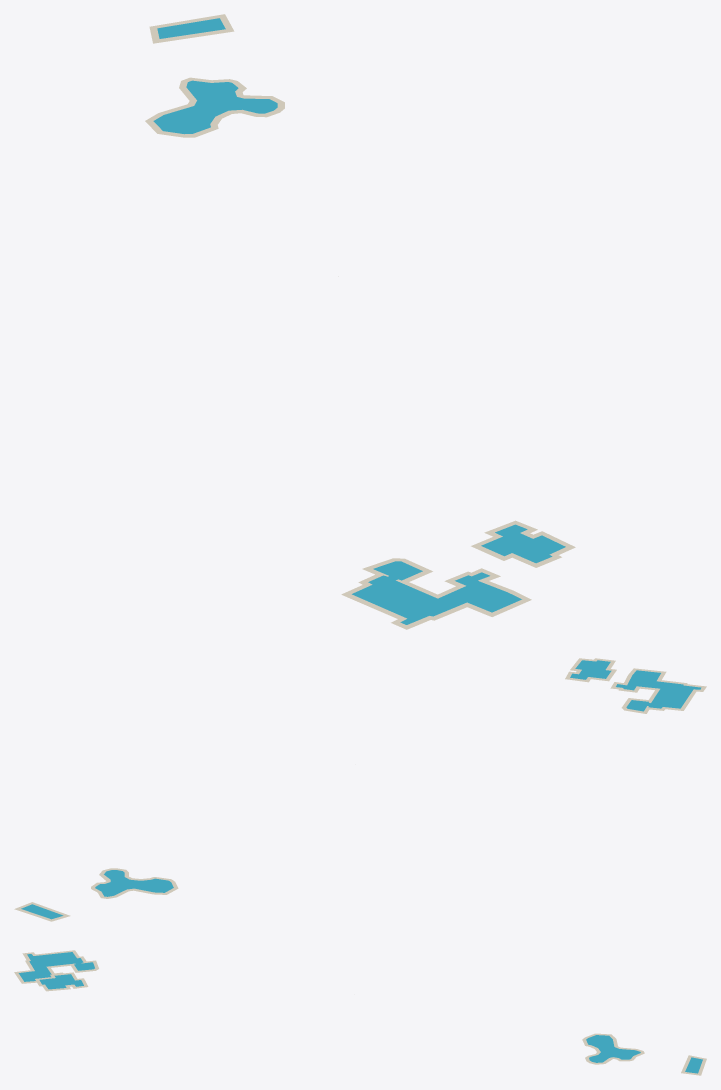
File: pbpool_m21_m15.glb
The picture shows the model from 3 angles, top to bottom: view 1: azimuth 30°, elevation 25°; view 2: azimuth 150°, elevation 25°; view 3: azimuth 270°, elevation 25°; orthographic projection. The views are drawn at different scales.
Parts seen in each view (by area): view 1: pbpool_m21_m15_lod0; view 2: pbpool_m21_m15_lod0; view 3: pbpool_m21_m15_lod0.
Boxes of the visible parts, bbox=[...] form: pbpool_m21_m15_lod0: bbox=[145, 14, 575, 629]; pbpool_m21_m15_lod0: bbox=[14, 658, 706, 921]; pbpool_m21_m15_lod0: bbox=[14, 950, 706, 1075].
Size of what is drawn, in the model's own units: 105 by 9.47 by 246.
